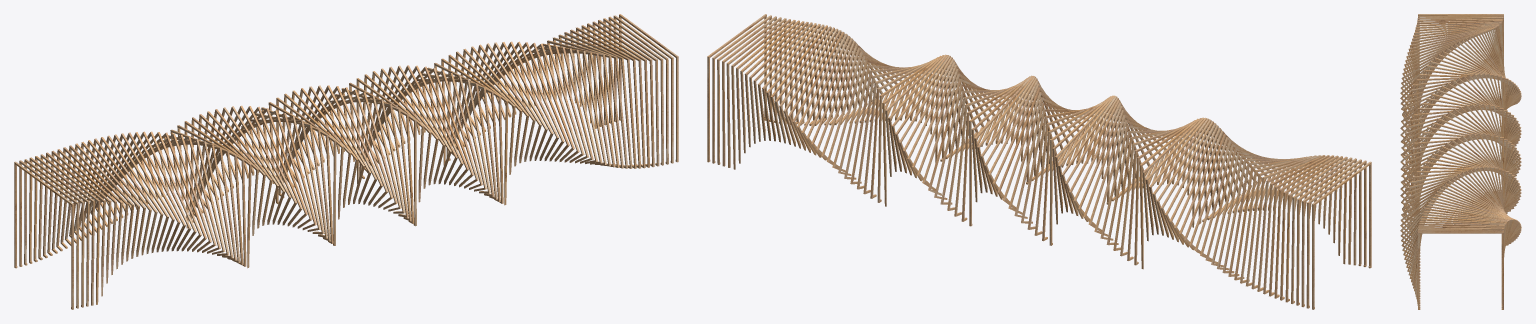
The model's file is bidge-02-structure-01.glb.
3 views of the same model, side by side, from view 1: azimuth 30°, elevation 25°; view 2: azimuth 150°, elevation 25°; view 3: azimuth 270°, elevation 25° (orthographic). The views are drawn at different scales.
Parts seen in each view (by area): view 1: bridge-02-structure; view 2: bridge-02-structure; view 3: bridge-02-structure.
Part boxes in pixels (x1,y1,x2,y2): bridge-02-structure: (14, 14, 678, 309); bridge-02-structure: (707, 14, 1371, 309); bridge-02-structure: (1400, 14, 1521, 309).
Size of the model in its own units: 37.73 by 7.7 by 8.87.
1 material, 1 textured.
